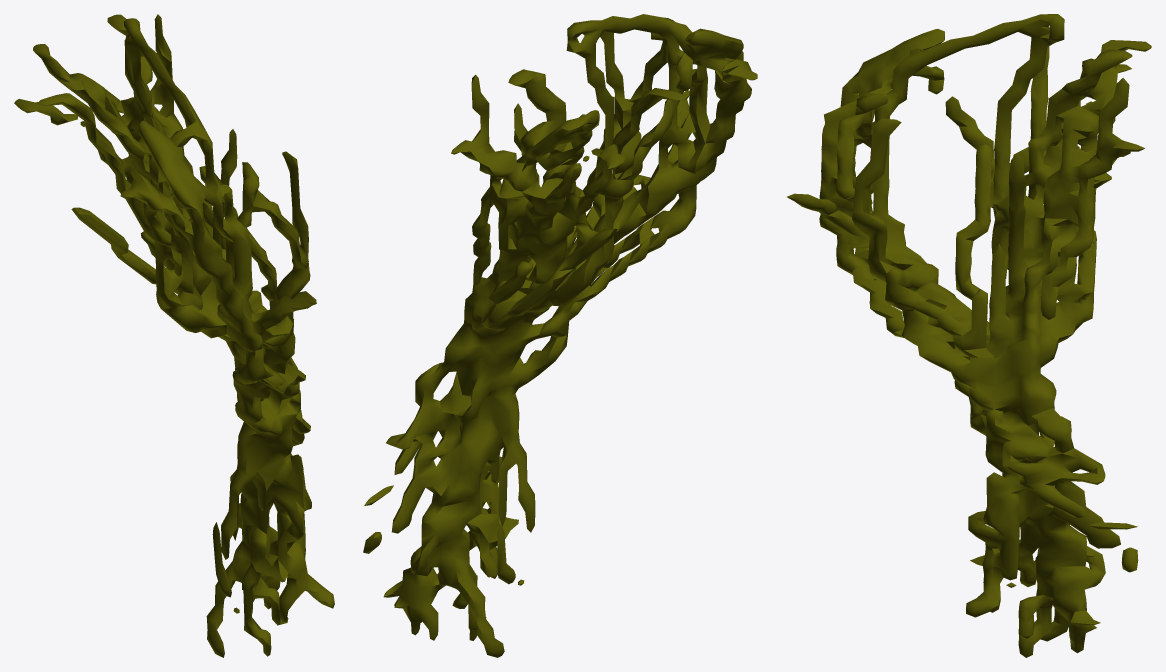
The model's file is Optic_radiation.obj.
The picture shows the model from 3 angles, left to right: view 1: azimuth 30°, elevation 25°; view 2: azimuth 150°, elevation 25°; view 3: azimuth 270°, elevation 25°; orthographic projection. The views are drawn at different scales.
Parts seen in each view (by area): view 1: grp1; view 2: grp1; view 3: grp1.
Boxes of the visible parts, box(x1,y1,x2,y2) form: grp1: box(14, 14, 334, 657); grp1: box(363, 14, 757, 657); grp1: box(787, 14, 1151, 657).
Size of the model in its own units: 57.52 by 132 by 74.17.
